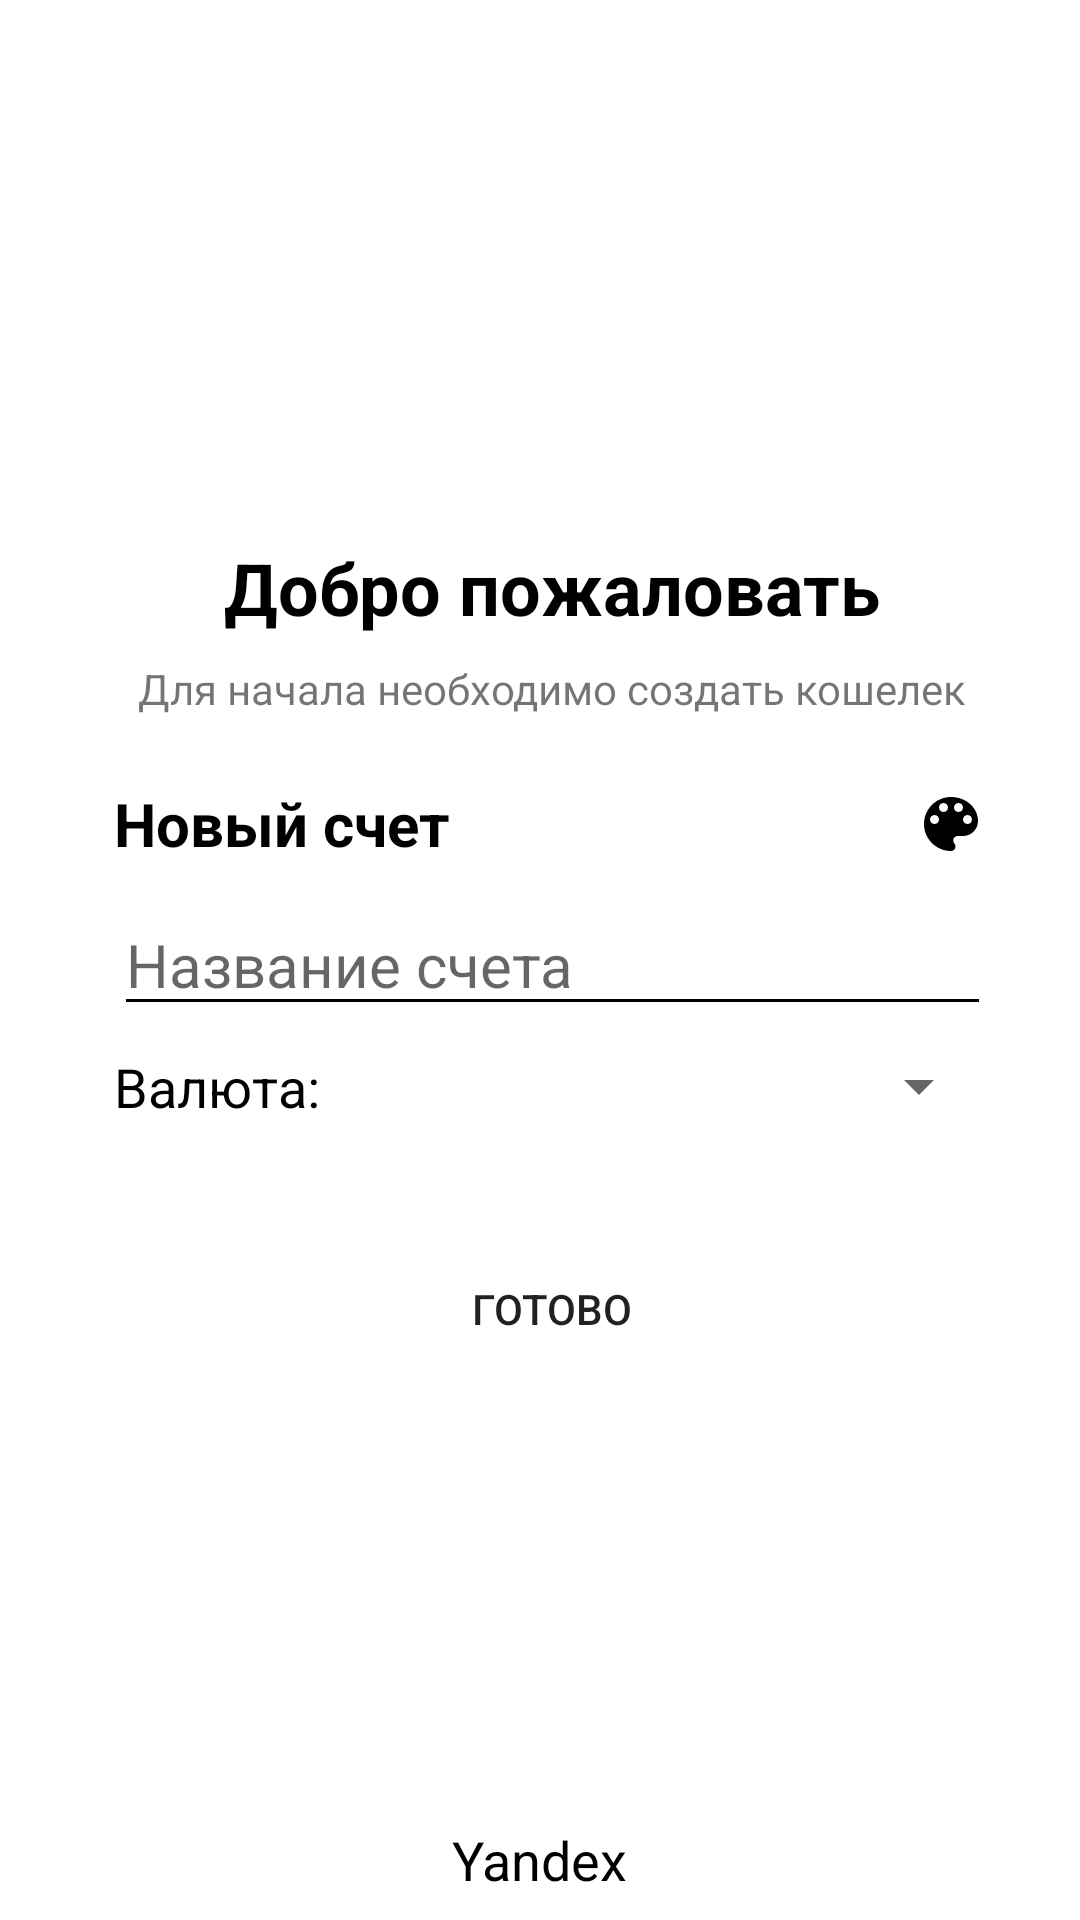

Locate icon controls on the screen. Image size 1080px×1920px, boxes as Rect(x1, y1, x2, y2).
palette: Rect(924, 797, 978, 851)
